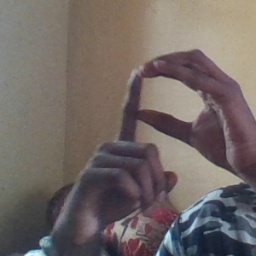P: (78, 49, 240, 204)
